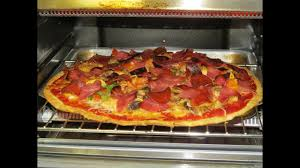pizza: (54, 53, 257, 128)
